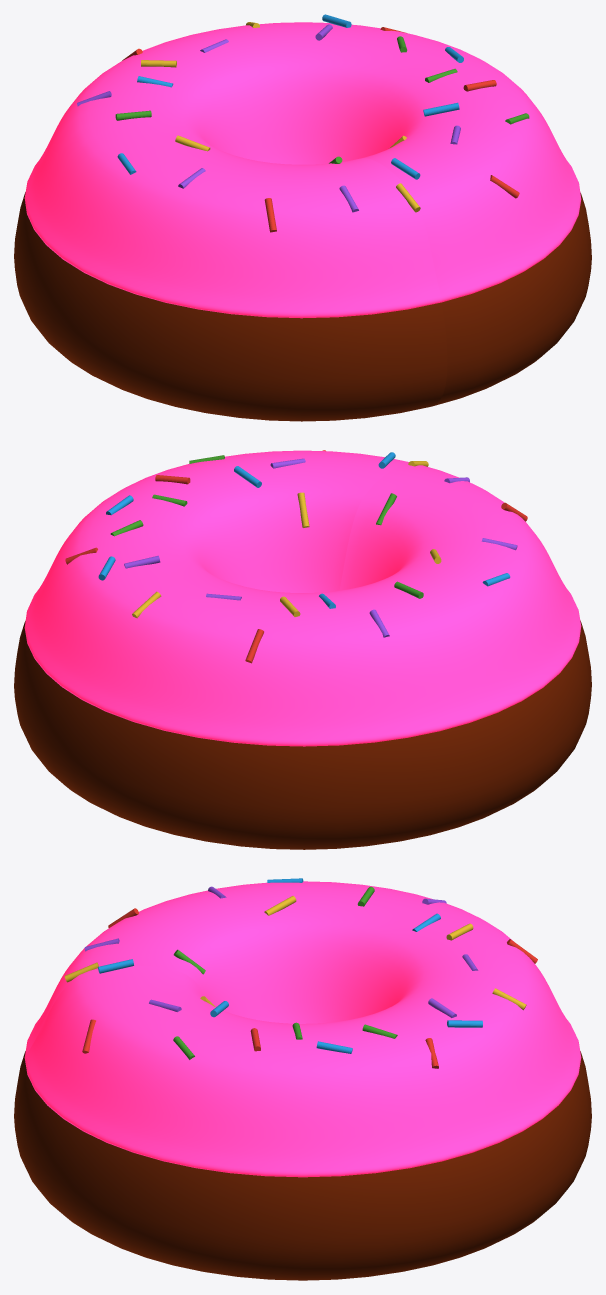
The model's file is donut.glb.
3 views of the same model, one above another, from view 1: azimuth 30°, elevation 25°; view 2: azimuth 150°, elevation 25°; view 3: azimuth 270°, elevation 25° (orthographic).
Visible parts, largest first — view 1: Cylinder.036; view 2: Cylinder.036; view 3: Cylinder.036.
Boxes of the visible parts, <box> form: Cylinder.036: <box>14,14,591,421</box>; Cylinder.036: <box>14,450,591,849</box>; Cylinder.036: <box>14,878,591,1280</box>.
Bounding box in the file's own units: 3.26 × 1.43 × 3.26.
